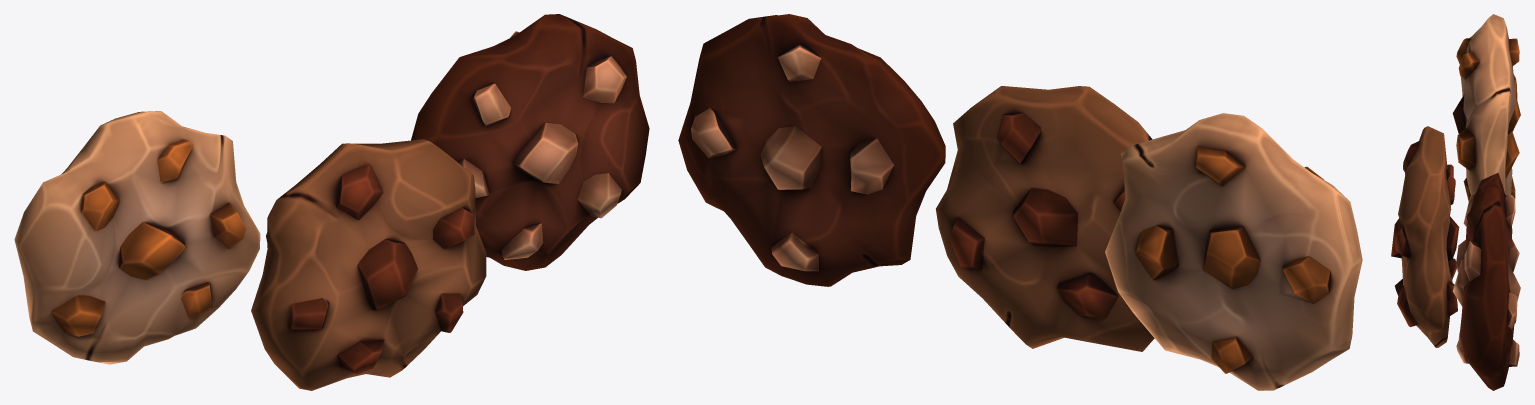
File: chocolate_mini_cookies.glb
3 views of the same model, side by side, from view 1: azimuth 30°, elevation 25°; view 2: azimuth 150°, elevation 25°; view 3: azimuth 270°, elevation 25° (orthographic). The views are drawn at different scales.
Visible parts, largest first — view 1: cookie_02, cookie_01, cookie_03; view 2: cookie_02, cookie_03, cookie_01; view 3: cookie_01, cookie_03, cookie_02.
Boxes of the visible parts, <box> form: cookie_02: <box>14,111,260,364</box>; cookie_01: <box>251,139,486,390</box>; cookie_03: <box>411,14,649,270</box>; cookie_02: <box>1105,113,1362,390</box>; cookie_03: <box>678,14,945,286</box>; cookie_01: <box>936,86,1154,351</box>; cookie_01: <box>1391,126,1459,347</box>; cookie_03: <box>1452,173,1520,390</box>; cookie_02: <box>1452,14,1520,201</box>.
Size of the model in its own units: 1.25 by 0.5571 by 0.2737.
3 materials, 3 textured.
